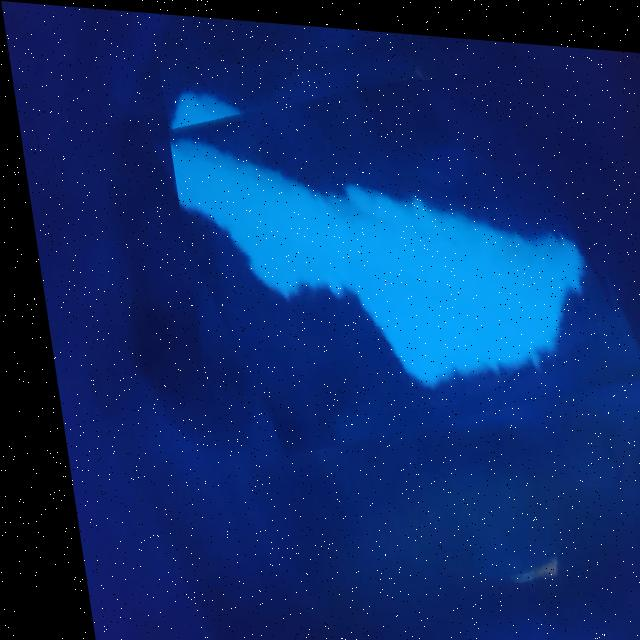thermocoal: (155, 55, 632, 450)
